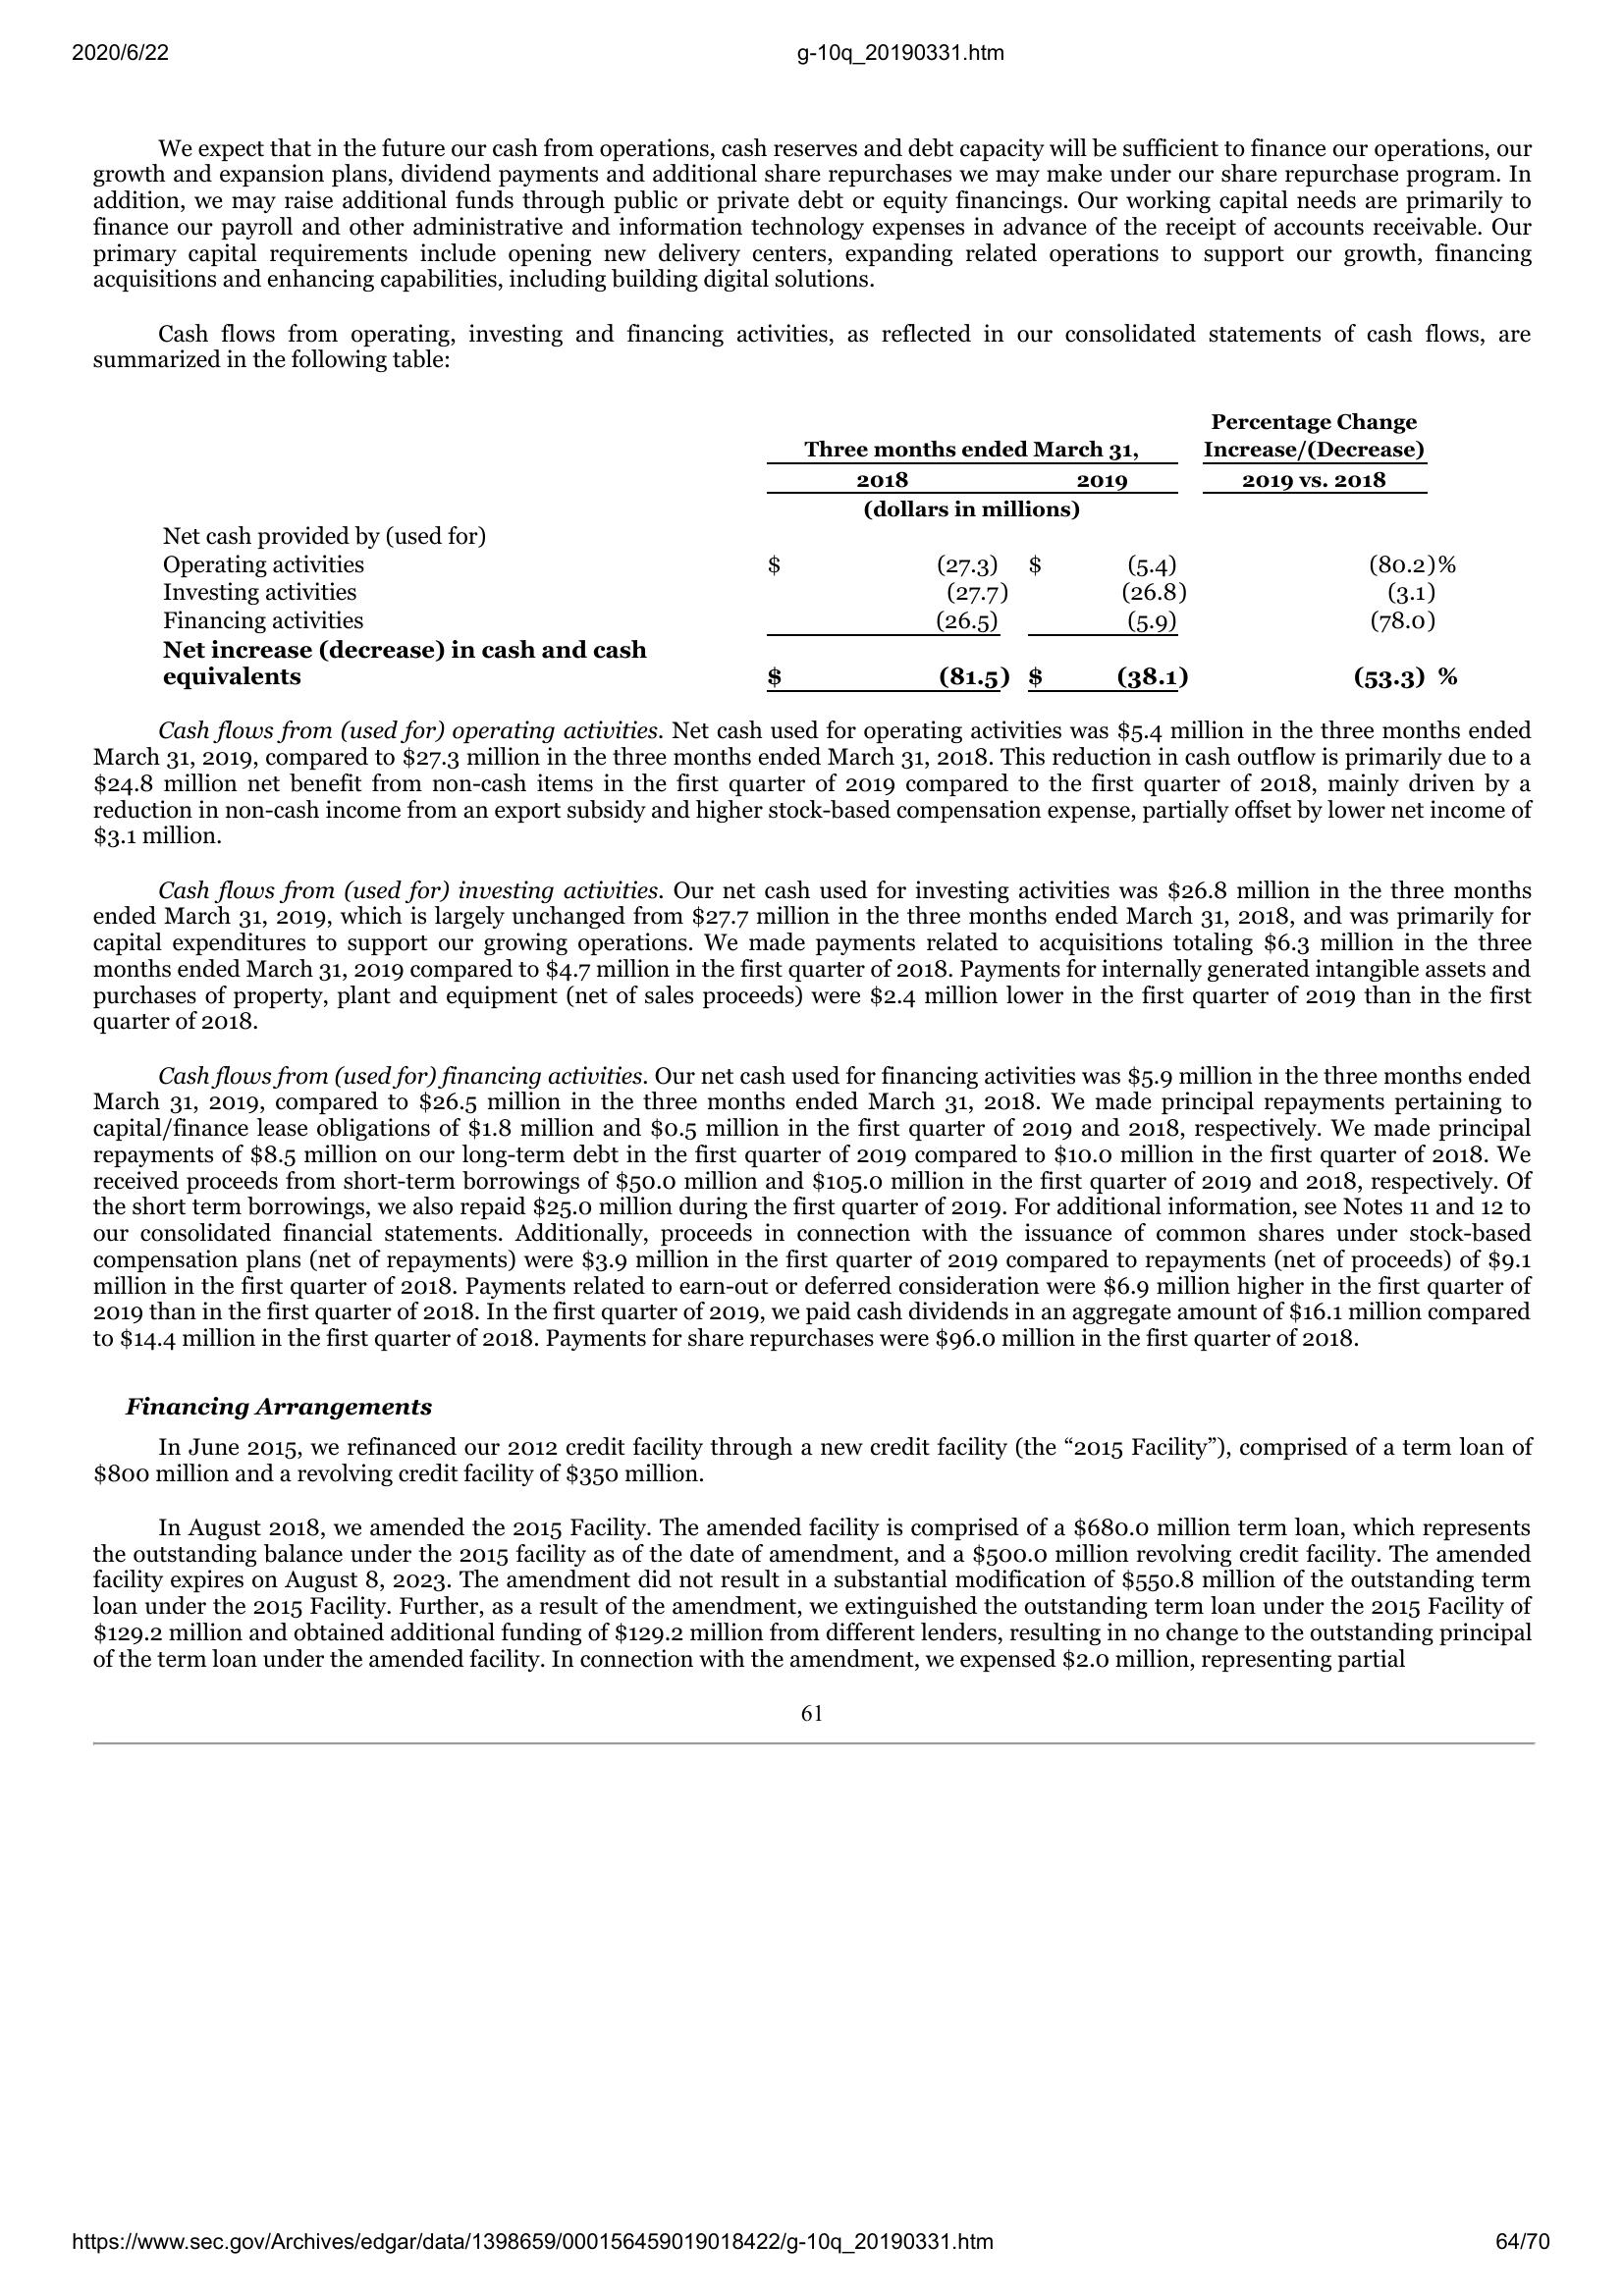table: (155, 402, 1463, 700)
